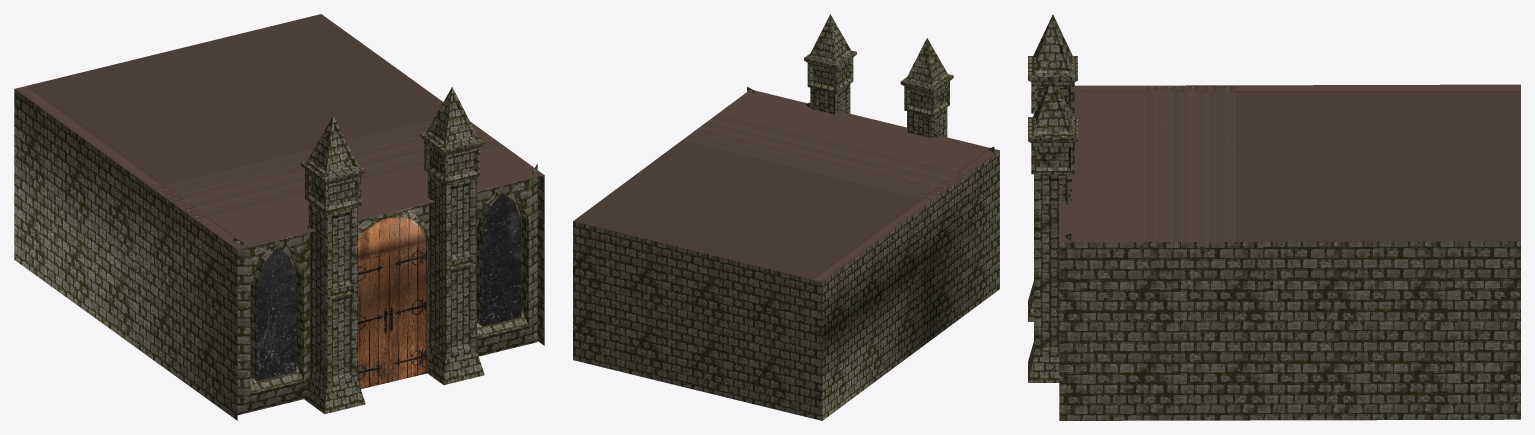
The model's file is main menu.fbx.
The picture shows the model from 3 angles, left to right: view 1: azimuth 30°, elevation 25°; view 2: azimuth 150°, elevation 25°; view 3: azimuth 270°, elevation 25°; orthographic projection. The views are drawn at different scales.
Parts seen in each view (by area): view 1: room.006, Columna detalle.002, Ventanal.001, Portal; view 2: room.006, Columna detalle.002; view 3: room.006, Columna detalle.002.
Boxes of the visible parts, box(x1,y1,x2,y2) form: room.006: box(14, 14, 544, 420); Columna detalle.002: box(300, 87, 484, 414); Ventanal.001: box(233, 164, 537, 415); Portal: box(358, 203, 428, 388); room.006: box(573, 90, 999, 420); Columna detalle.002: box(804, 14, 953, 138); room.006: box(1059, 84, 1520, 420); Columna detalle.002: box(1028, 14, 1077, 382).
Size of the model in its own units: 666 by 879 by 586.
4 materials, 4 textured.
